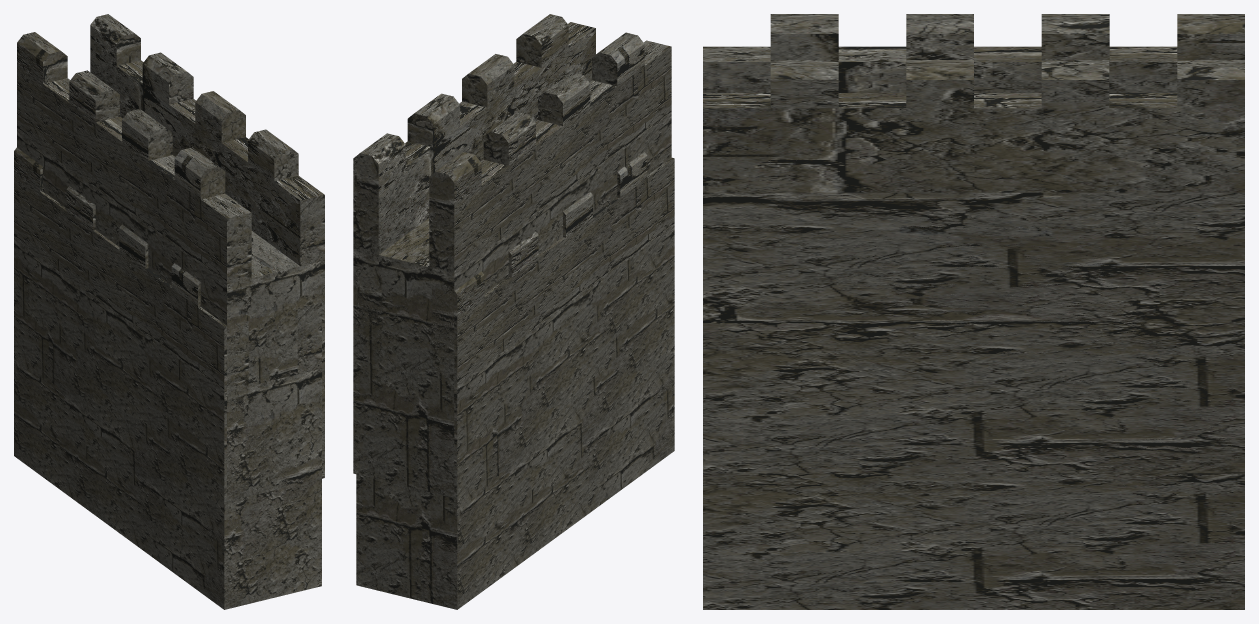
Rendered from CastleGate.fbx.
3 renders of one model, left to right at view 1: azimuth 30°, elevation 25°; view 2: azimuth 150°, elevation 25°; view 3: azimuth 270°, elevation 25°, orthographic. The views are drawn at different scales.
Parts seen in each view (by area): view 1: Wall, Wall.001; view 2: Wall, Wall.001; view 3: Wall.001, Wall.
Boxes of the visible parts, bbox=[...] form: Wall: bbox=[14, 147, 321, 609]; Wall.001: bbox=[17, 14, 324, 501]; Wall: bbox=[356, 152, 674, 609]; Wall.001: bbox=[353, 14, 671, 497]; Wall.001: bbox=[703, 14, 1244, 473]; Wall: bbox=[703, 473, 1244, 609].
Bounding box in the file's own units: 206 × 819 × 745.
